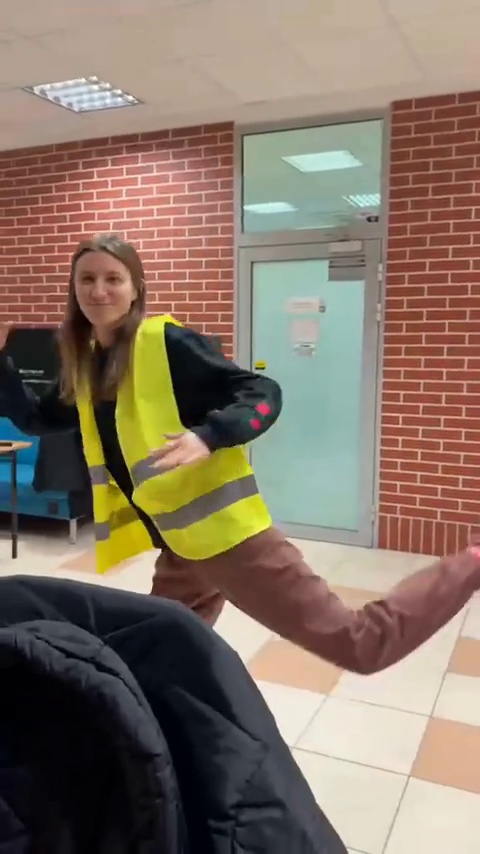vest: (44, 219, 390, 688)
